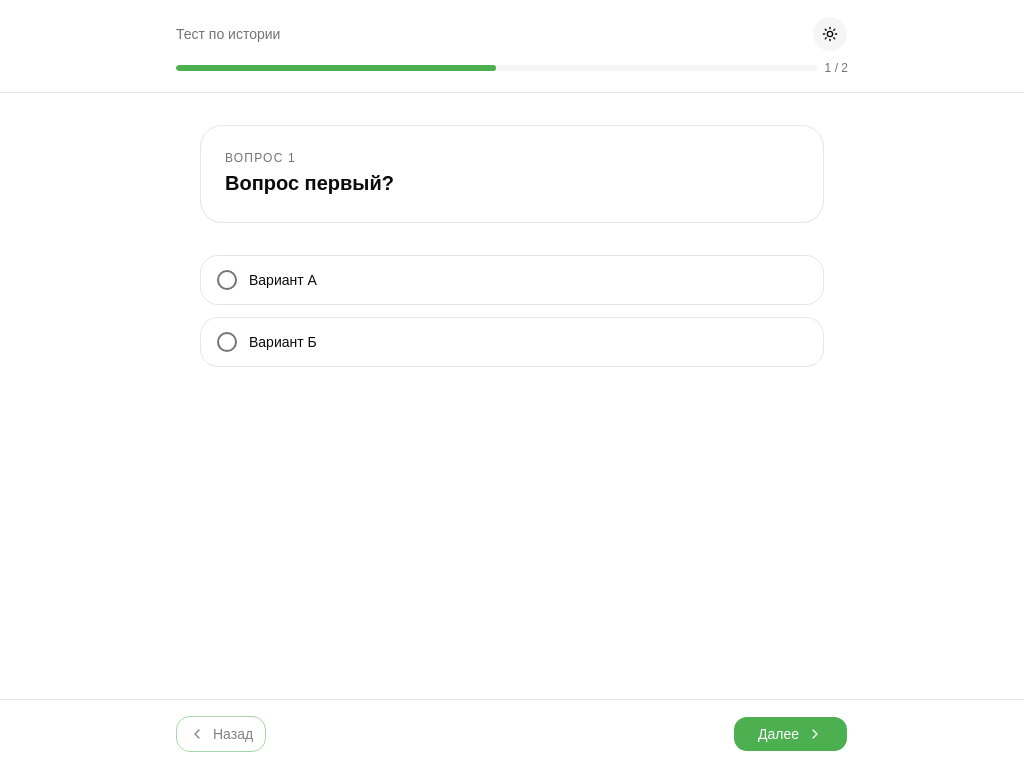
Test case: QuizTakingPage › complete phase › allows returning to questions from complete phase
Click the button "Далее" at x=790, y=734, box [733,716,848,752]
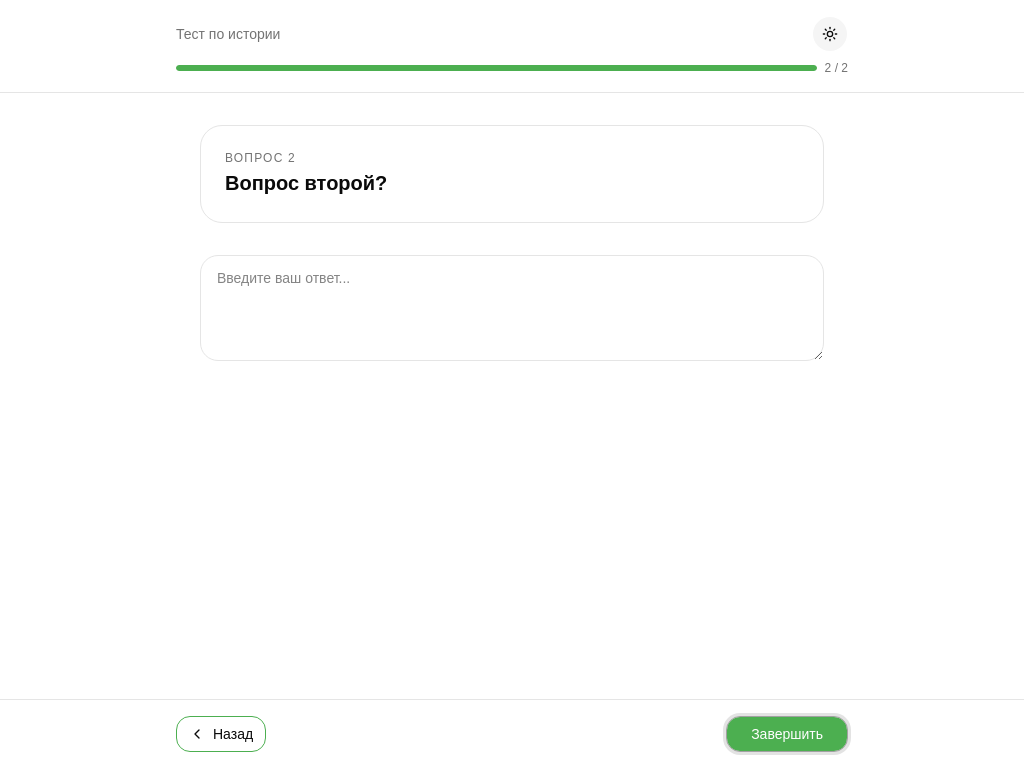
Click the button "Завершить" at x=787, y=734, box [726,716,848,752]
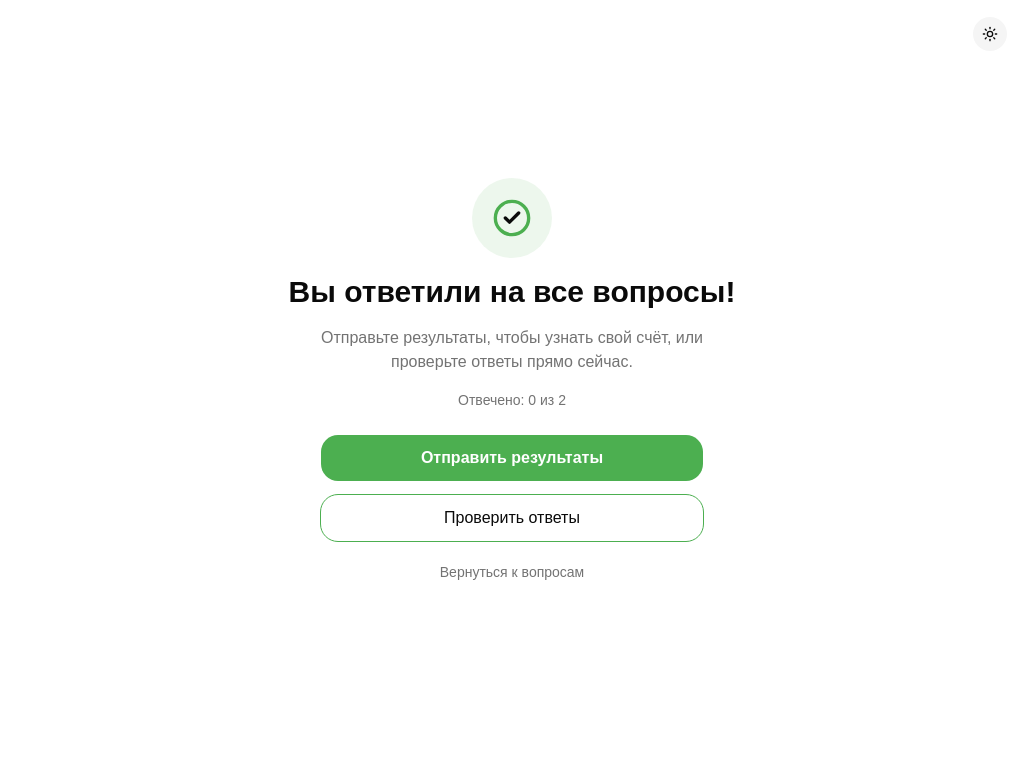
Click the button "Вернуться к вопросам" at x=512, y=572, box [320,554,704,590]
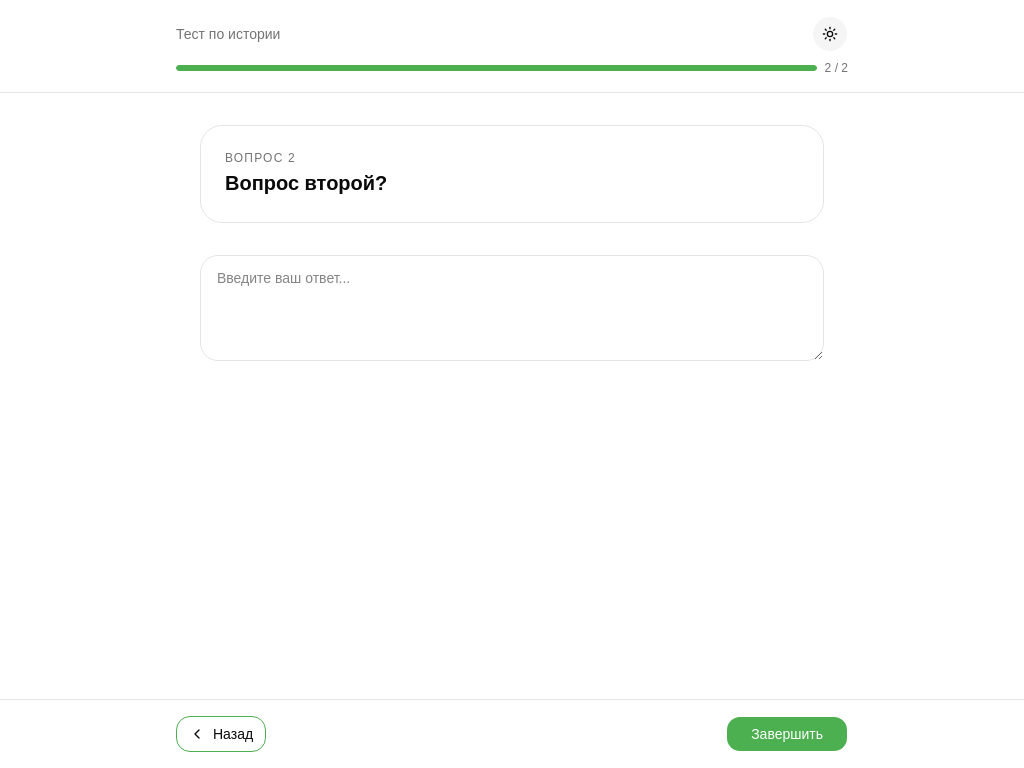
Result: the heading "Вопрос второй?" is shown at [225,172,387,194]
